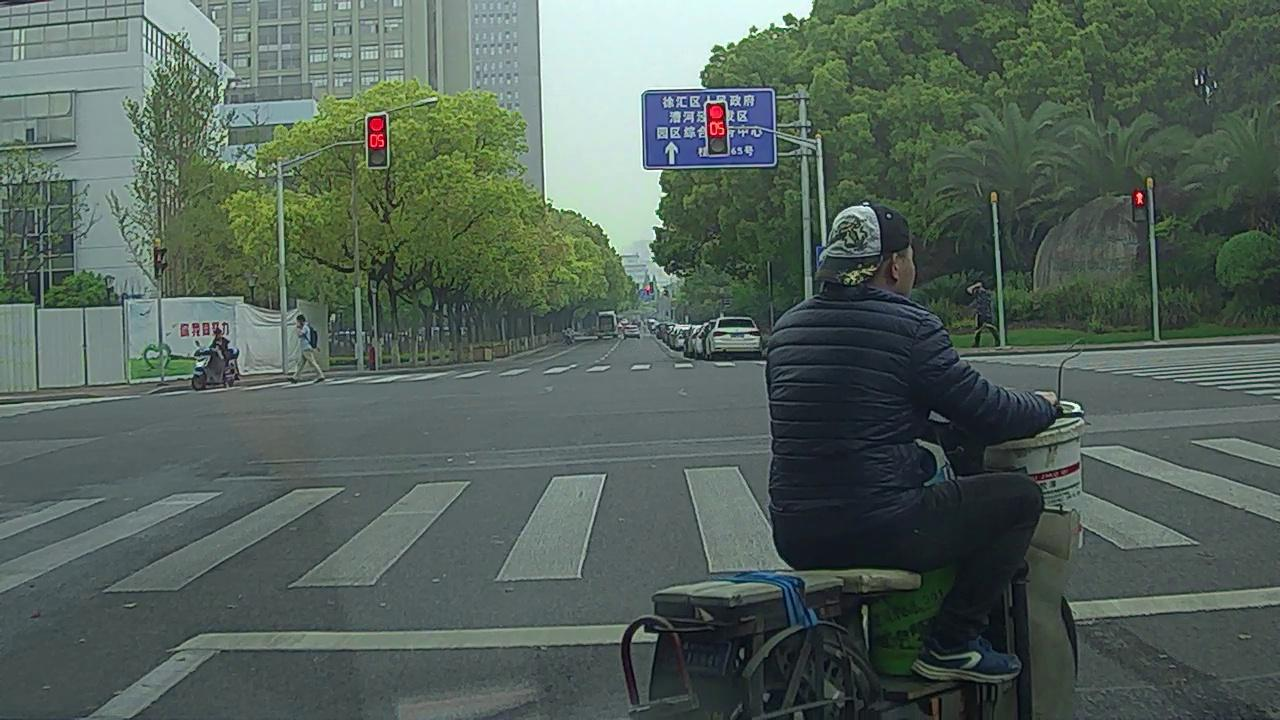traffic_light: (367, 115, 389, 168), (705, 103, 728, 153)
